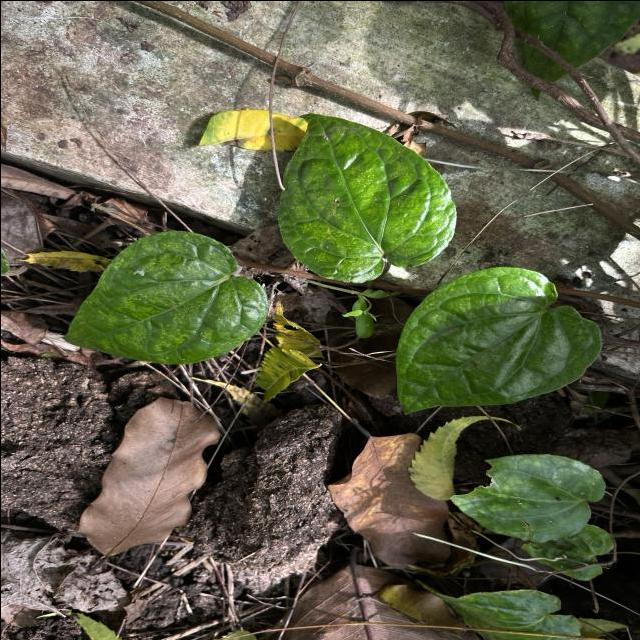Piper betle: (392, 264, 604, 416), (275, 111, 458, 284), (62, 228, 269, 366)
